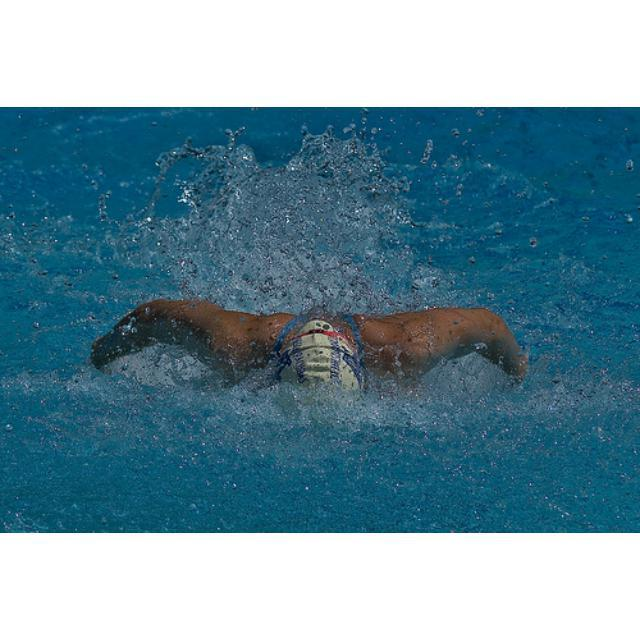human: (91, 294, 533, 406)
